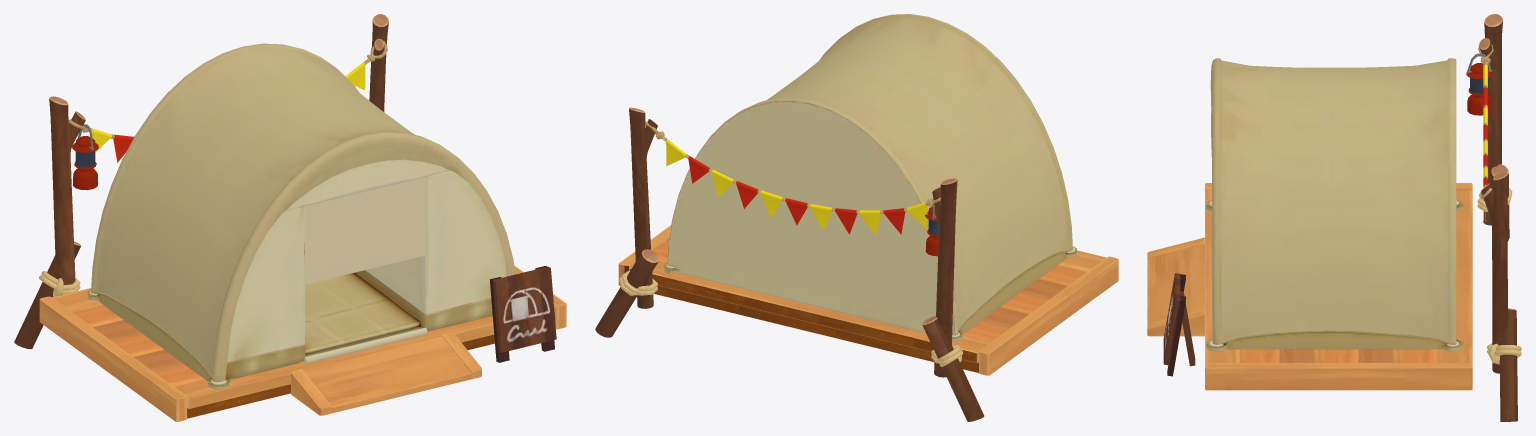
File: tent.glb
3 renders of one model, left to right at view 1: azimuth 30°, elevation 25°; view 2: azimuth 150°, elevation 25°; view 3: azimuth 270°, elevation 25°, orthographic. The views are drawn at different scales.
Size of the model in its own units: 40.18 by 25.94 by 33.24.
3 materials, 3 textured.
